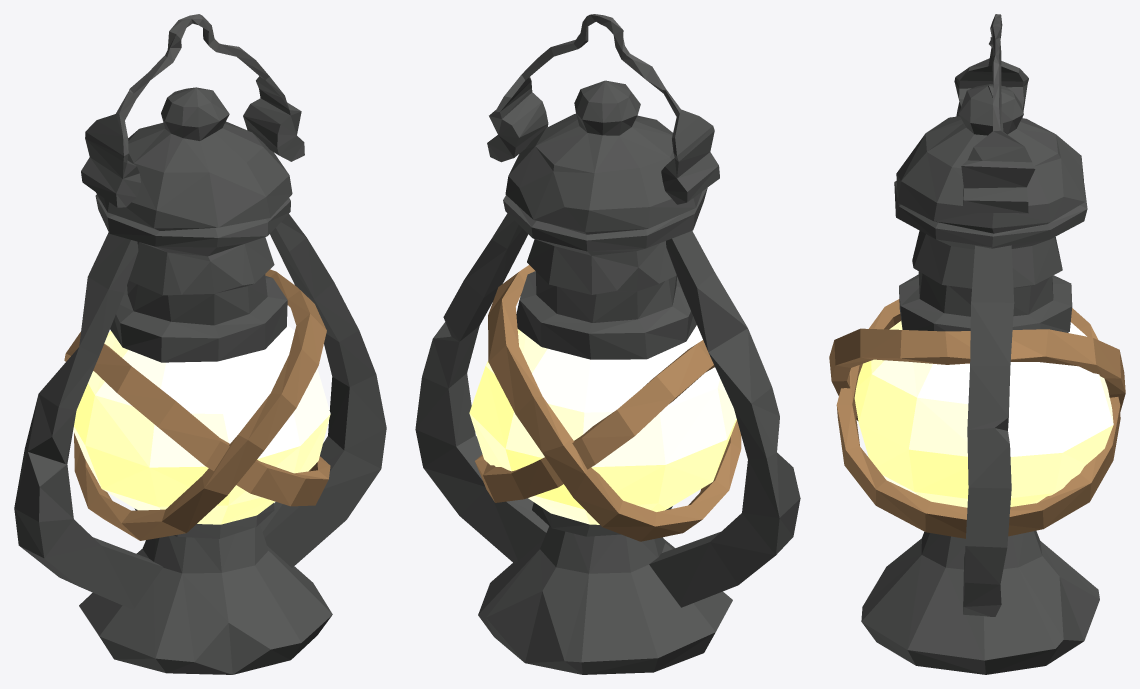
Rendered from Lamp_001.fbx.
3 views of the same model, side by side, from view 1: azimuth 30°, elevation 25°; view 2: azimuth 150°, elevation 25°; view 3: azimuth 270°, elevation 25° (orthographic). The views are drawn at different scales.
Visible parts, largest first — view 1: Lamp_001; view 2: Lamp_001; view 3: Lamp_001.
Part boxes in pixels (bbox=[...]): Lamp_001: bbox=[14, 14, 386, 674]; Lamp_001: bbox=[415, 14, 800, 674]; Lamp_001: bbox=[829, 14, 1125, 674].
Size of the model in its own units: 0.266 by 0.438 by 0.1932.
